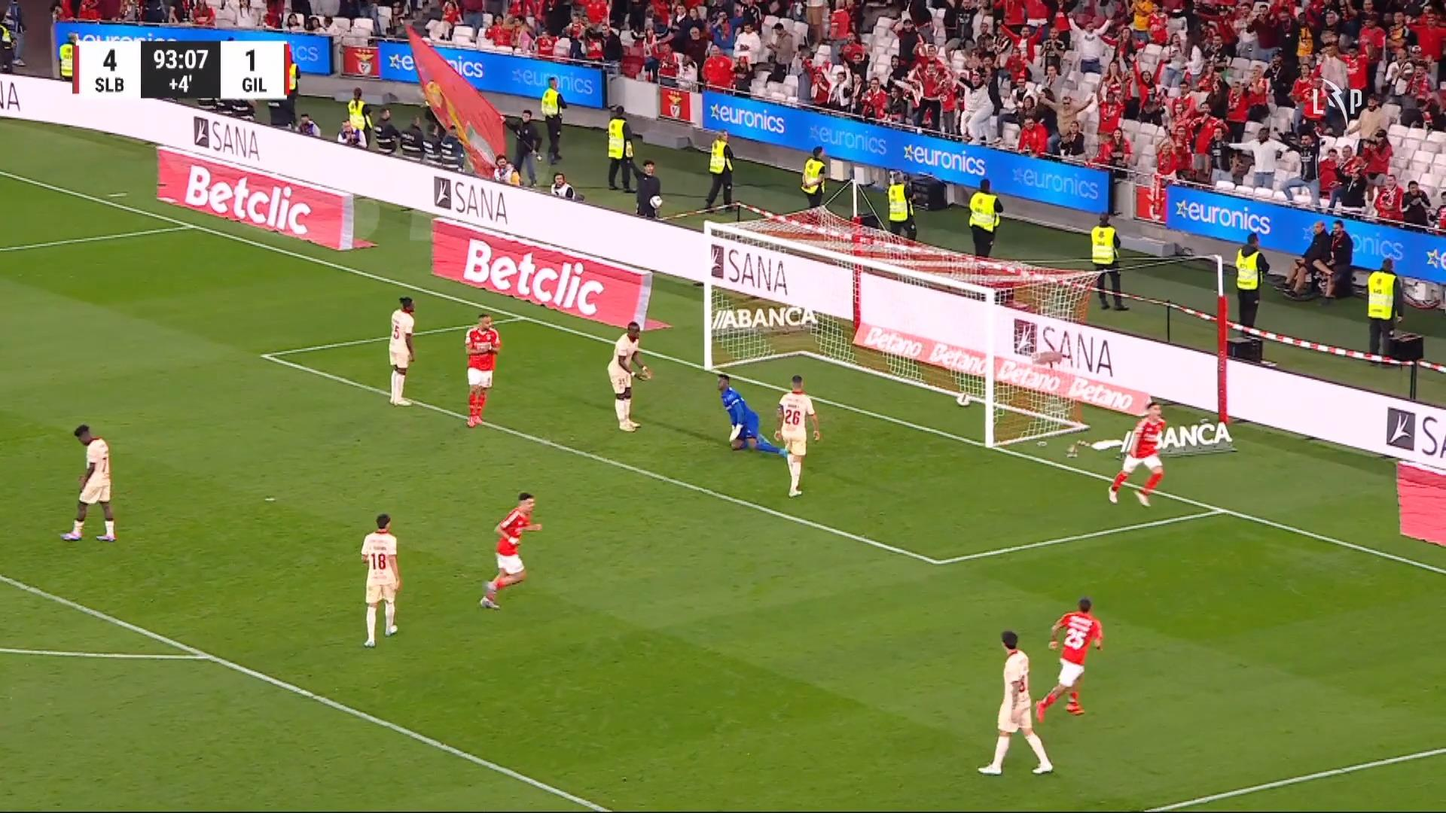ball: (956, 392, 970, 406)
goalkeeper: (715, 373, 786, 455)
player: (977, 629, 1053, 776), (1033, 596, 1103, 723), (478, 492, 542, 610), (59, 423, 116, 541), (1107, 401, 1167, 507), (773, 374, 821, 497), (359, 513, 401, 647), (606, 321, 652, 432), (463, 312, 501, 428), (387, 296, 416, 406)
